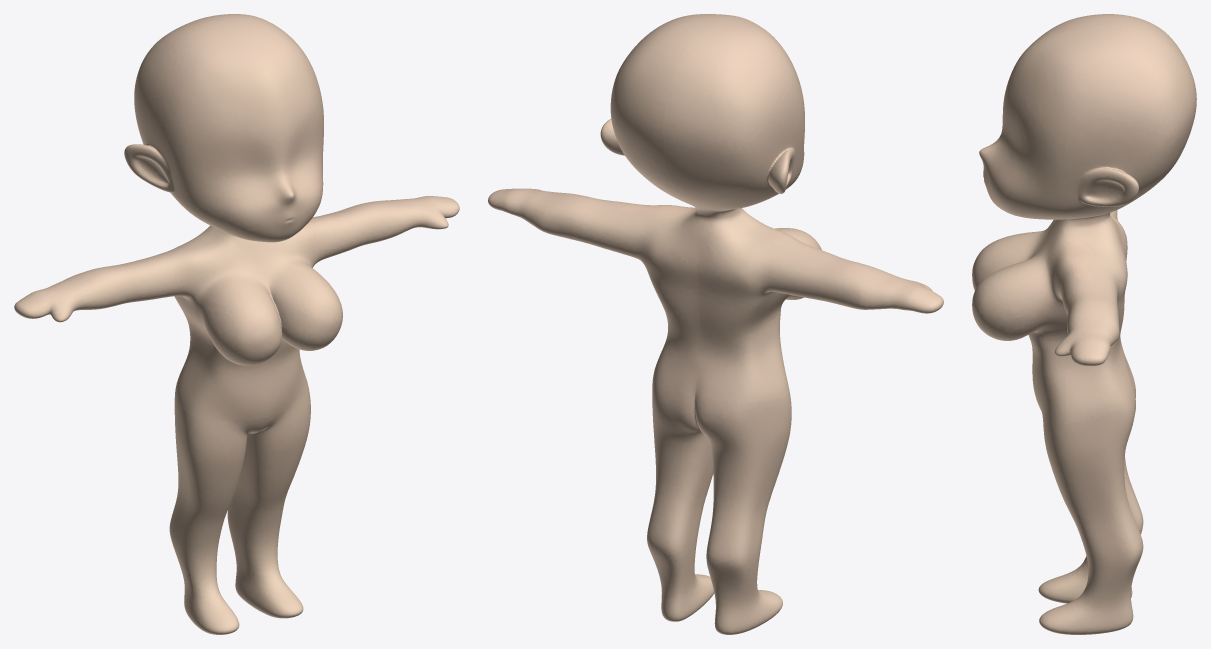
Rendered from char_yeoja_base_v7.glb.
The picture shows the model from 3 angles, left to right: view 1: azimuth 30°, elevation 25°; view 2: azimuth 150°, elevation 25°; view 3: azimuth 270°, elevation 25°; orthographic projection. The views are drawn at different scales.
Bounding box in the file's own units: 1.5 × 1.9 × 0.655.
Materials: 1 (1 with a texture image).
